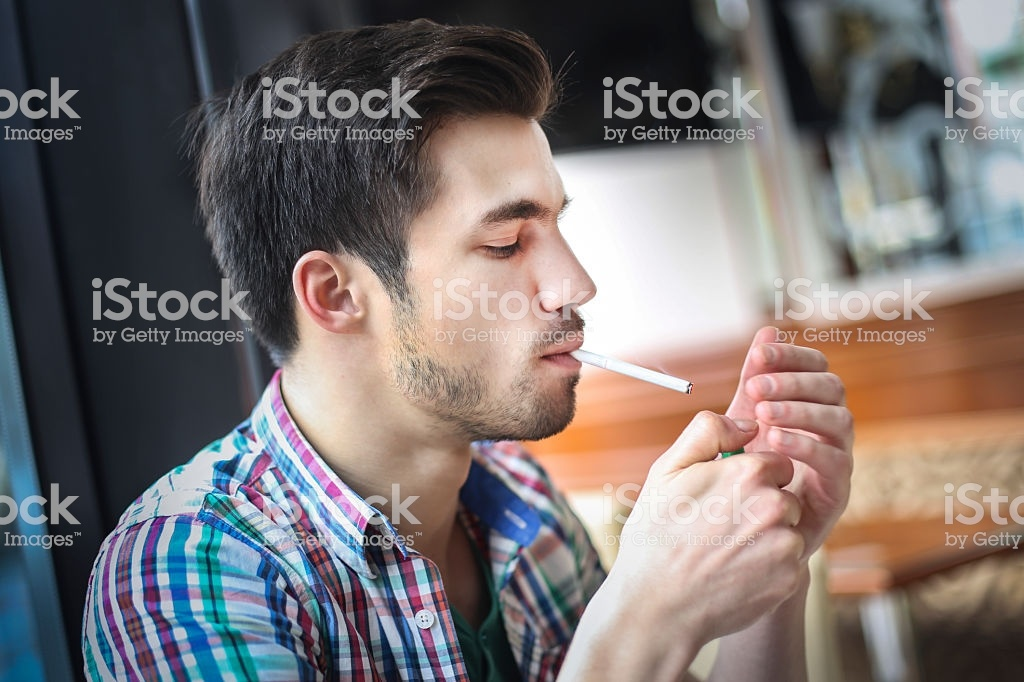sigaretta: (561, 348, 687, 395)
